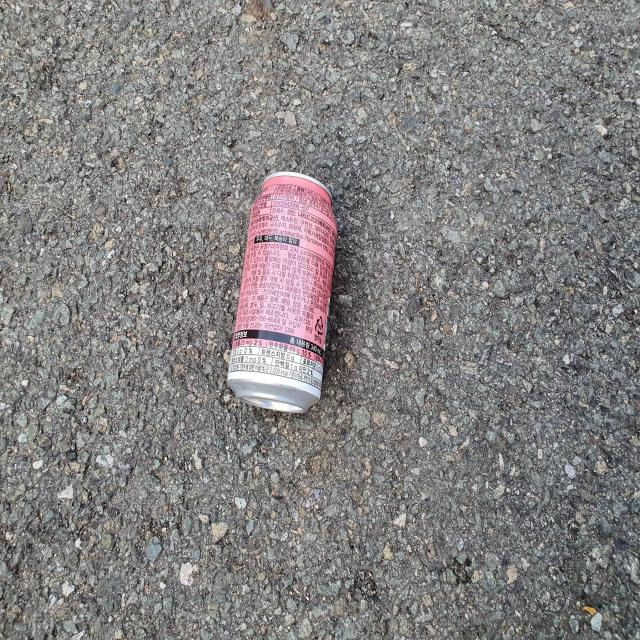can: (227, 172, 338, 413)
